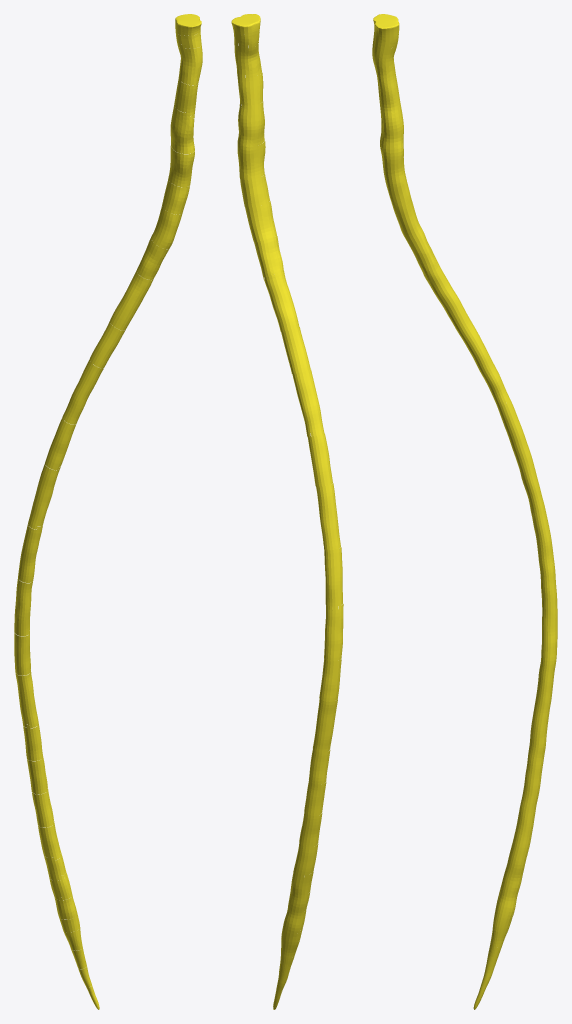
Rendered from VH_M_Spinal_Cord_0.8.glb.
3 views of the same model, side by side, from view 1: azimuth 90°, elevation 25°; view 2: azimuth 210°, elevation 25°; view 3: azimuth 270°, elevation 25° (orthographic). The views are drawn at different scales.
Visible parts, largest first — view 1: VH_M_second_thoracic_spinal_cord_segment, VH_M_fourth_thoracic_spinal_cord_segment, VH_M_sixth_thoracic_spinal_cord_segment, VH_M_C5_segment_of_cervical_spinal_cord, VH_M_seventh_thoracic_spinal_cord_segment, VH_M_eighth_thoracic_spinal_cord_segment, VH_M_tenth_thoracic_spinal_cord_segment, VH_M_C3_segment_of_cervical_spinal_cord, VH_M_fifth_thoracic_spinal_cord_segment, VH_M_C8_segment_of_cervical_spinal_cord, VH_M_C6_segment_of_cervical_spinal_cord, VH_M_third_thoracic_spinal_cord_segment (+9 smaller); view 2: VH_M_fourth_thoracic_spinal_cord_segment, VH_M_second_thoracic_spinal_cord_segment, VH_M_sixth_thoracic_spinal_cord_segment, VH_M_C5_segment_of_cervical_spinal_cord, VH_M_seventh_thoracic_spinal_cord_segment, VH_M_eighth_thoracic_spinal_cord_segment, VH_M_fifth_thoracic_spinal_cord_segment, VH_M_tenth_thoracic_spinal_cord_segment, VH_M_C8_segment_of_cervical_spinal_cord, VH_M_C6_segment_of_cervical_spinal_cord, VH_M_third_thoracic_spinal_cord_segment, VH_M_first_thoracic_spinal_cord_segment (+13 smaller); view 3: VH_M_second_thoracic_spinal_cord_segment, VH_M_fourth_thoracic_spinal_cord_segment, VH_M_sixth_thoracic_spinal_cord_segment, VH_M_C5_segment_of_cervical_spinal_cord, VH_M_seventh_thoracic_spinal_cord_segment, VH_M_tenth_thoracic_spinal_cord_segment, VH_M_eighth_thoracic_spinal_cord_segment, VH_M_fifth_thoracic_spinal_cord_segment, VH_M_C6_segment_of_cervical_spinal_cord, VH_M_C3_segment_of_cervical_spinal_cord, VH_M_third_thoracic_spinal_cord_segment, VH_M_ninth_thoracic_spinal_cord_segment (+9 smaller).
Part boxes in pixels (bbox=[...]): VH_M_second_thoracic_spinal_cord_segment: bbox=[110, 270, 152, 330]; VH_M_fourth_thoracic_spinal_cord_segment: bbox=[62, 359, 103, 424]; VH_M_sixth_thoracic_spinal_cord_segment: bbox=[28, 464, 60, 529]; VH_M_C5_segment_of_cervical_spinal_cord: bbox=[170, 105, 194, 153]; VH_M_seventh_thoracic_spinal_cord_segment: bbox=[18, 524, 42, 582]; VH_M_eighth_thoracic_spinal_cord_segment: bbox=[14, 578, 32, 636]; VH_M_tenth_thoracic_spinal_cord_segment: bbox=[15, 670, 38, 728]; VH_M_C3_segment_of_cervical_spinal_cord: bbox=[177, 42, 202, 85]; VH_M_fifth_thoracic_spinal_cord_segment: bbox=[45, 417, 75, 470]; VH_M_C8_segment_of_cervical_spinal_cord: bbox=[151, 206, 182, 249]; VH_M_C6_segment_of_cervical_spinal_cord: bbox=[168, 146, 194, 187]; VH_M_third_thoracic_spinal_cord_segment: bbox=[89, 321, 124, 368]; VH_M_fourth_thoracic_spinal_cord_segment: bbox=[292, 369, 324, 436]; VH_M_second_thoracic_spinal_cord_segment: bbox=[264, 271, 299, 331]; VH_M_sixth_thoracic_spinal_cord_segment: bbox=[316, 483, 340, 550]; VH_M_C5_segment_of_cervical_spinal_cord: bbox=[237, 101, 264, 147]; VH_M_seventh_thoracic_spinal_cord_segment: bbox=[324, 547, 342, 609]; VH_M_eighth_thoracic_spinal_cord_segment: bbox=[324, 604, 343, 661]; VH_M_fifth_thoracic_spinal_cord_segment: bbox=[307, 433, 332, 486]; VH_M_tenth_thoracic_spinal_cord_segment: bbox=[313, 699, 337, 752]; VH_M_C8_segment_of_cervical_spinal_cord: bbox=[245, 201, 276, 241]; VH_M_C6_segment_of_cervical_spinal_cord: bbox=[237, 141, 265, 179]; VH_M_third_thoracic_spinal_cord_segment: bbox=[281, 327, 310, 373]; VH_M_first_thoracic_spinal_cord_segment: bbox=[254, 236, 283, 280]; VH_M_second_thoracic_spinal_cord_segment: bbox=[422, 261, 463, 317]; VH_M_fourth_thoracic_spinal_cord_segment: bbox=[470, 343, 510, 406]; VH_M_sixth_thoracic_spinal_cord_segment: bbox=[512, 445, 543, 509]; VH_M_C5_segment_of_cervical_spinal_cord: bbox=[380, 103, 403, 149]; VH_M_seventh_thoracic_spinal_cord_segment: bbox=[529, 502, 554, 564]; VH_M_tenth_thoracic_spinal_cord_segment: bbox=[533, 658, 556, 716]; VH_M_eighth_thoracic_spinal_cord_segment: bbox=[539, 562, 557, 618]; VH_M_fifth_thoracic_spinal_cord_segment: bbox=[497, 399, 527, 450]; VH_M_C6_segment_of_cervical_spinal_cord: bbox=[380, 143, 405, 183]; VH_M_C3_segment_of_cervical_spinal_cord: bbox=[372, 41, 396, 81]; VH_M_third_thoracic_spinal_cord_segment: bbox=[449, 308, 483, 352]; VH_M_ninth_thoracic_spinal_cord_segment: bbox=[541, 614, 557, 661].
Size of the model in its own units: 0.0207 by 0.4652 by 0.0796.
